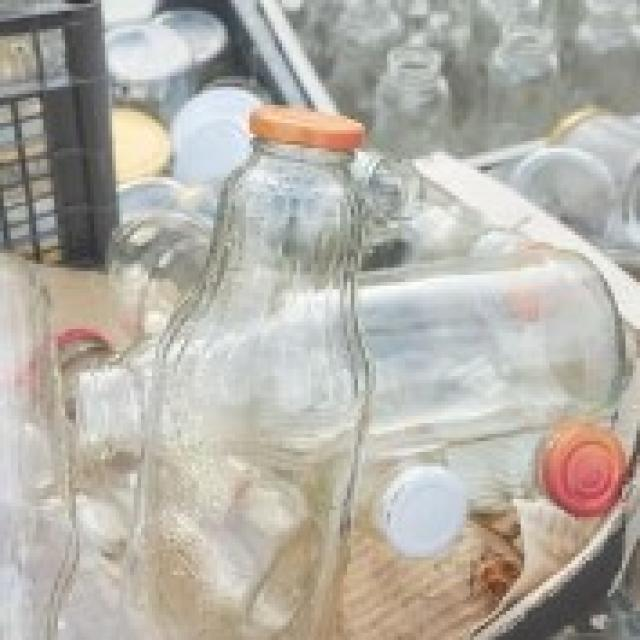electronic: (142, 101, 376, 640)
